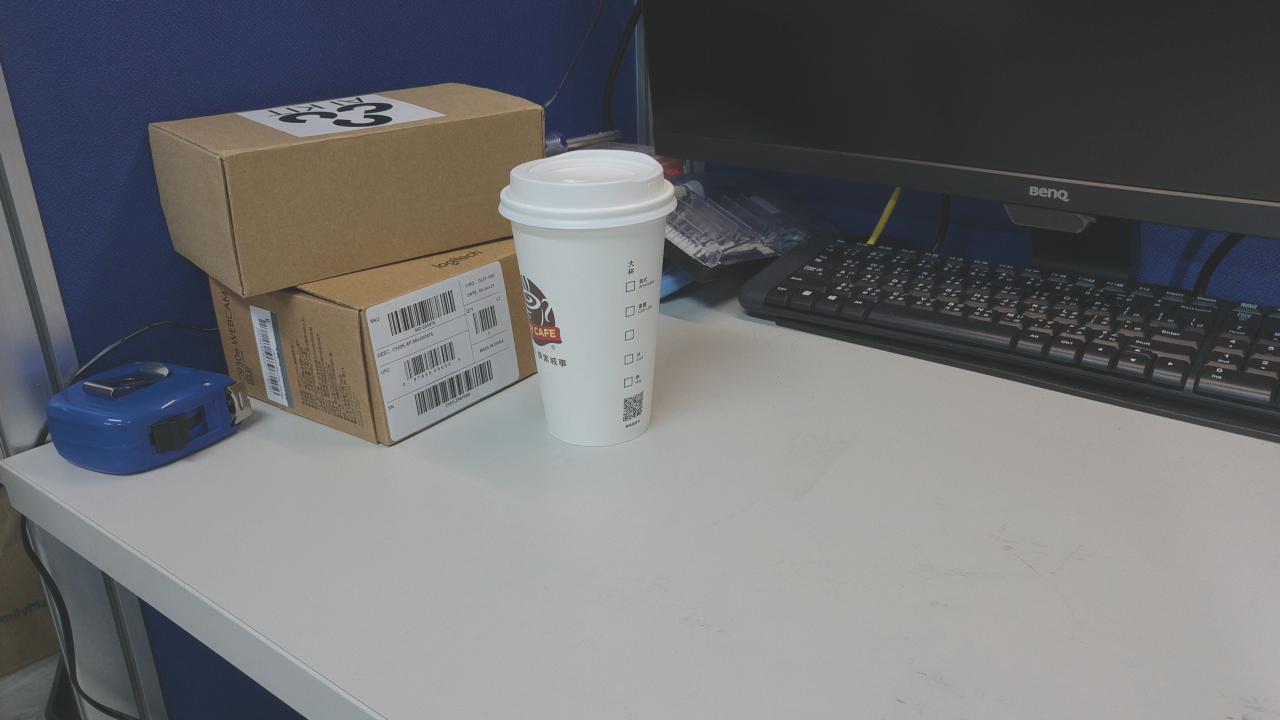long: (854, 326, 908, 420)
